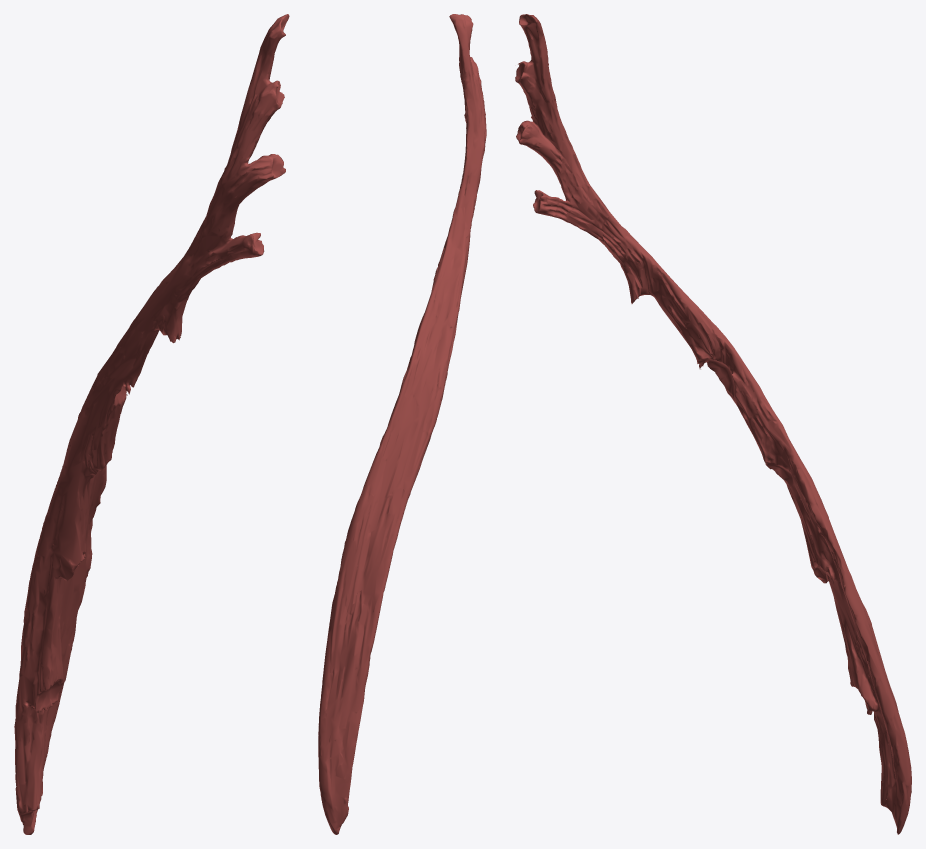
Rendered from FMA22757.glb.
3 renders of one model, left to right at view 1: azimuth 30°, elevation 25°; view 2: azimuth 150°, elevation 25°; view 3: azimuth 270°, elevation 25°, orthographic. The views are drawn at different scales.
Parts seen in each view (by area): view 1: FMA22757; view 2: FMA22757; view 3: FMA22757.
Part boxes in pixels (left/top/right/bottom): FMA22757: left=14, top=14, right=289, bottom=834; FMA22757: left=318, top=14, right=486, bottom=834; FMA22757: left=515, top=14, right=911, bottom=834.
Bounding box in the file's own units: 0.0185 × 0.1835 × 0.0788.
